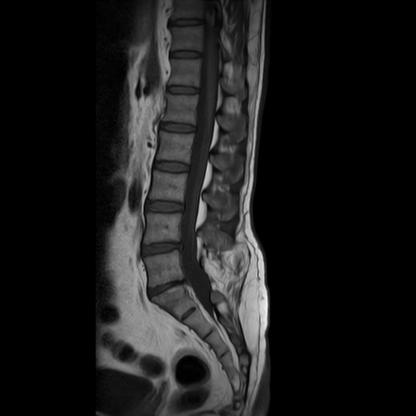Disc Bulgerotation: (139, 239, 183, 258), (146, 278, 187, 296)
